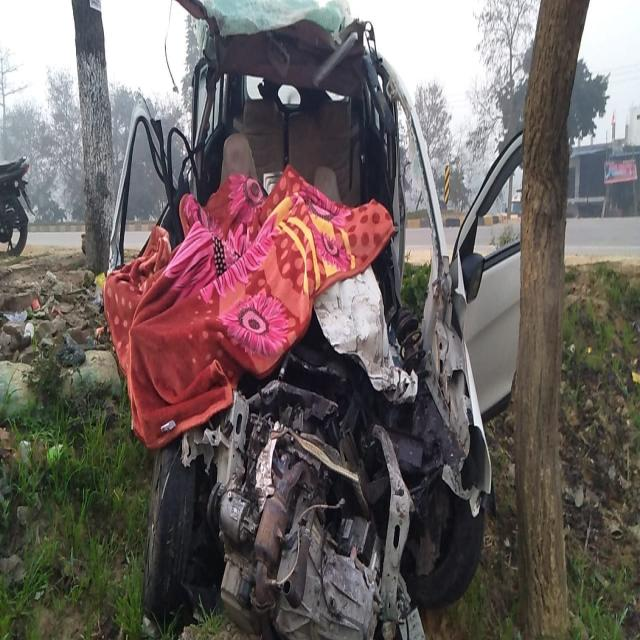accident: (104, 0, 522, 638)
